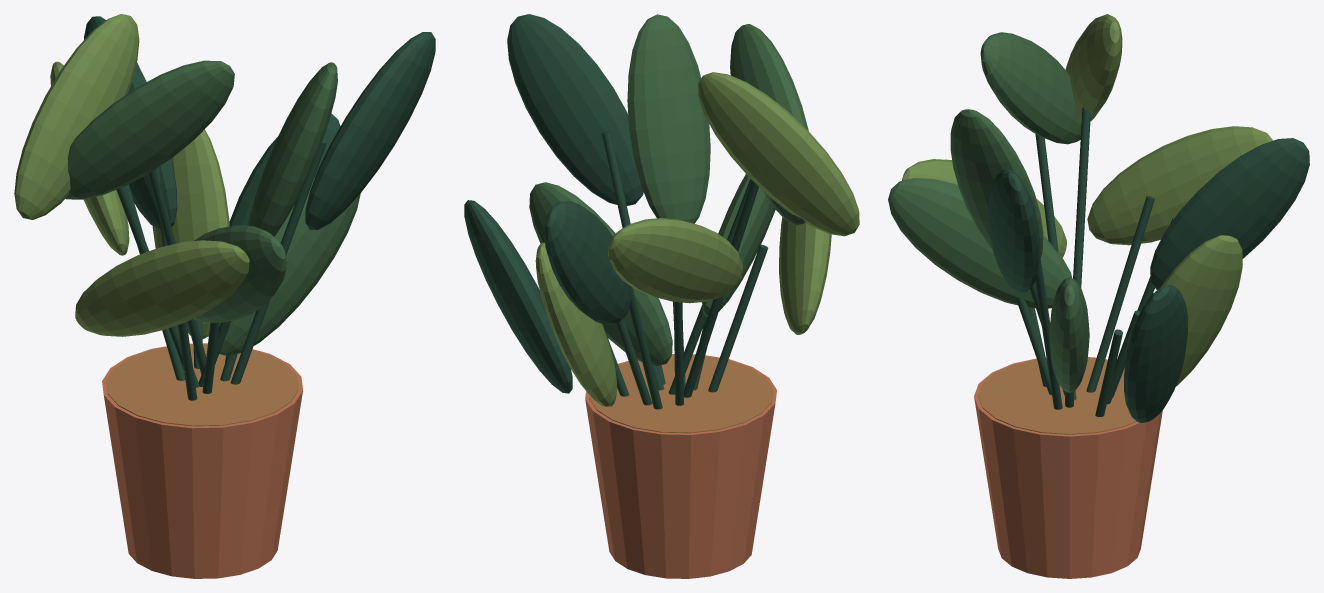
File: best.glb
3 views of the same model, side by side, from view 1: azimuth 30°, elevation 25°; view 2: azimuth 150°, elevation 25°; view 3: azimuth 270°, elevation 25° (orthographic). The views are drawn at different scales.
Parts seen in each view (by area): view 1: Native component 18, Native component 14, Native component 0, Native component 10, Native component 1; view 2: Native component 10, Native component 18, Native component 0, Native component 14, Native component 1; view 3: Native component 10, Native component 14, Native component 0, Native component 18, Native component 1.
Part boxes in pixels (x1,y1,x2,y2): Native component 18: (14, 14, 249, 338); Native component 14: (65, 60, 360, 356); Native component 0: (102, 343, 302, 578); Native component 10: (84, 16, 435, 400); Native component 1: (106, 344, 298, 426); Native component 10: (464, 14, 768, 409); Native component 18: (535, 72, 859, 406); Native component 0: (585, 354, 776, 578); Native component 14: (529, 14, 808, 366); Native component 1: (589, 354, 772, 433); Native component 10: (988, 107, 1309, 422); Native component 14: (888, 32, 1089, 392); Native component 0: (974, 357, 1162, 578); Native component 18: (902, 14, 1272, 386); Native component 1: (978, 358, 1136, 434).
Size of the model in its own units: 1.26 by 1.63 by 1.24.
